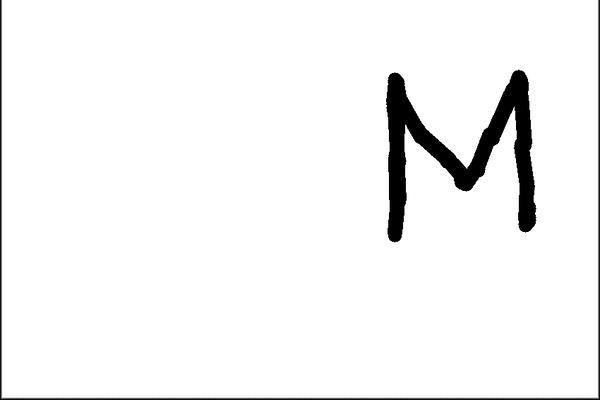M: (380, 61, 539, 239)
